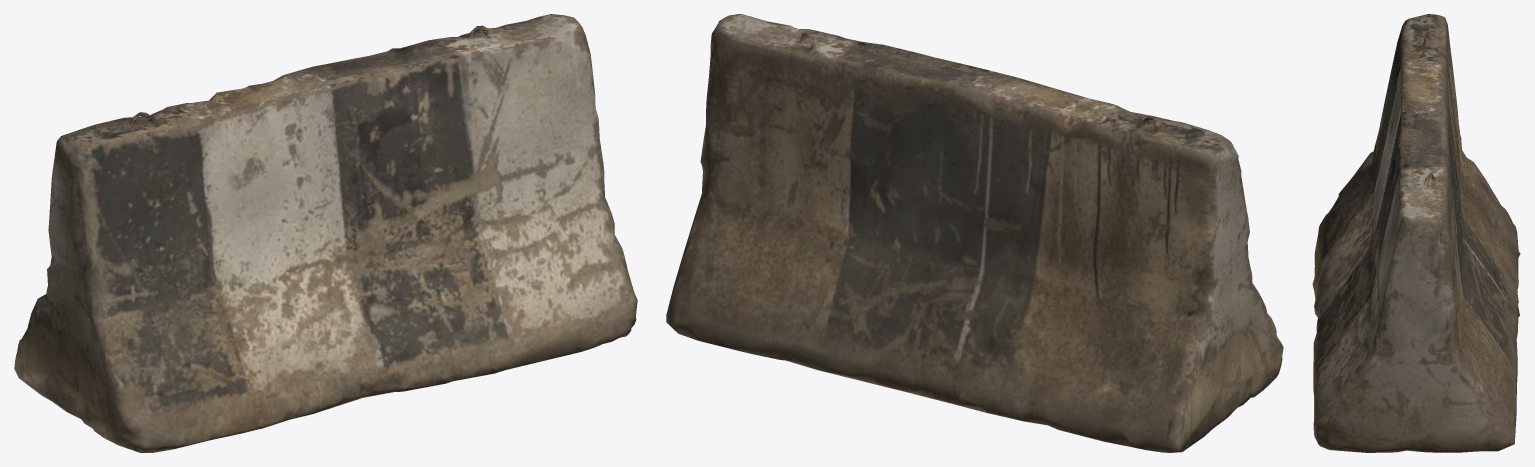
Rendered from concrete_road_barrier.glb.
3 renders of one model, left to right at view 1: azimuth 30°, elevation 25°; view 2: azimuth 150°, elevation 25°; view 3: azimuth 270°, elevation 25°, orthographic. The views are drawn at different scales.
Visible parts, largest first — view 1: concrete_road_barrier; view 2: concrete_road_barrier; view 3: concrete_road_barrier.
Part boxes in pixels (x1,y1,x2,y2): concrete_road_barrier: (14,14,637,452); concrete_road_barrier: (666,14,1283,452); concrete_road_barrier: (1312,14,1520,452).
Size of the model in its own units: 1.54 by 0.8304 by 0.6387.
1 material, 1 textured.
